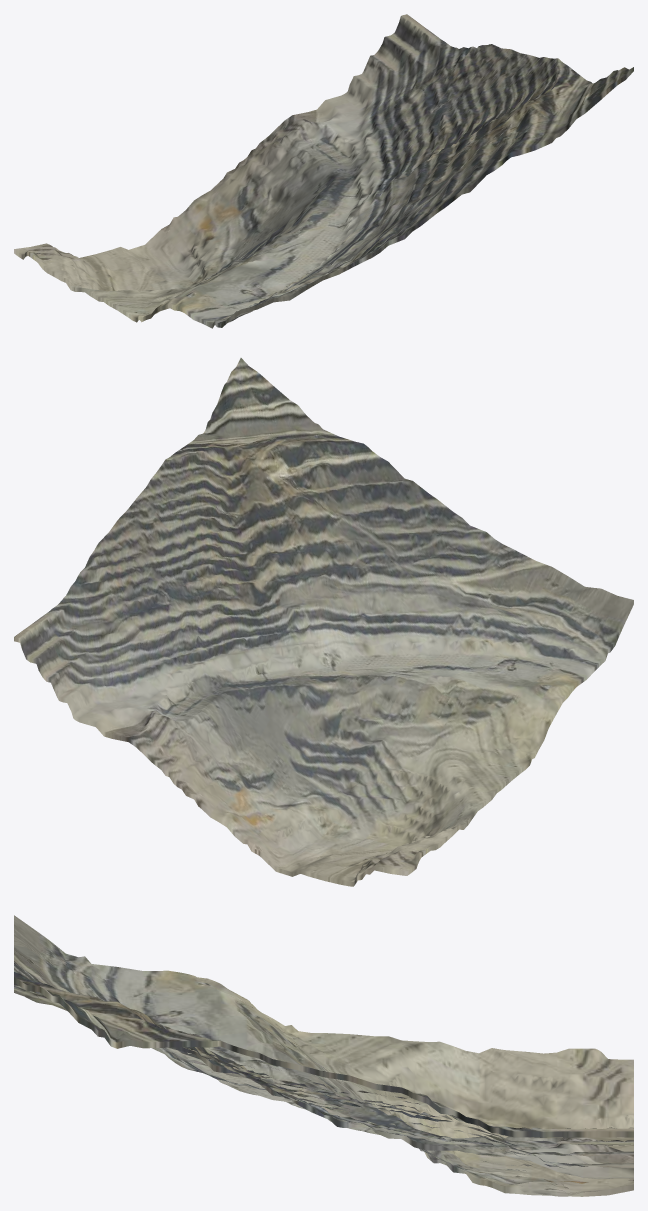
3 views of the same model, one above another, from view 1: azimuth 30°, elevation 25°; view 2: azimuth 150°, elevation 25°; view 3: azimuth 270°, elevation 25° (orthographic). The views are drawn at different scales.
Visible parts, largest first — view 1: l1-2-1; view 2: l1-2-1; view 3: l1-2-1.
Part boxes in pixels (x1,y1,x2,y2): l1-2-1: [14, 14, 633, 328]; l1-2-1: [14, 358, 633, 886]; l1-2-1: [14, 915, 633, 1196].
Size of the model in its own units: 768 by 540 by 768.
1 material, 1 textured.
